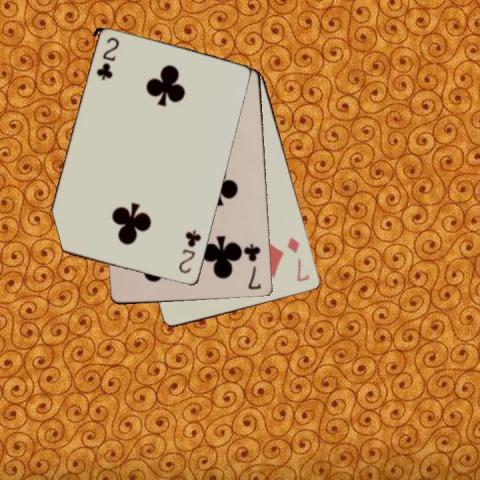2c: (176, 227, 203, 275), (93, 34, 118, 82)
7c: (244, 241, 263, 291)
7d: (285, 234, 311, 283)
